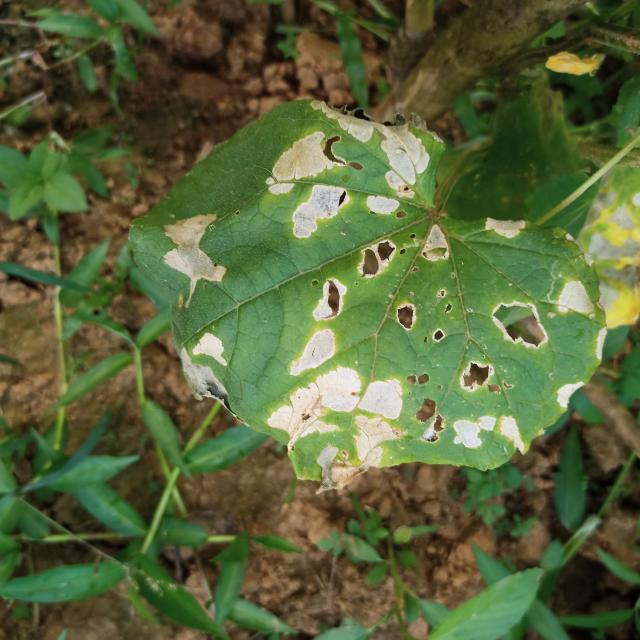disease_cucumber: (168, 97, 570, 469)
